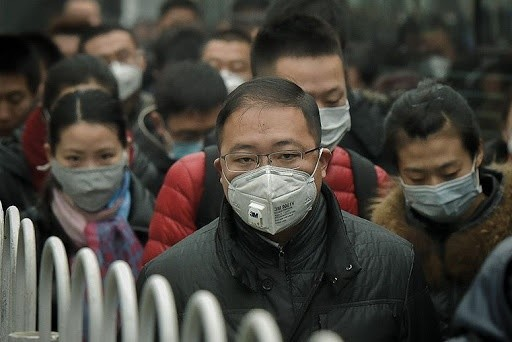face_with_mask: (217, 75, 325, 235), (385, 84, 485, 226), (251, 14, 352, 142), (46, 88, 128, 211), (153, 62, 226, 156), (78, 26, 140, 93)
